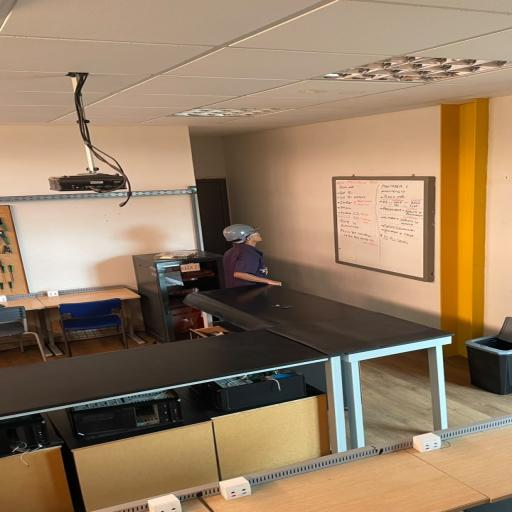CAPACETE: (222, 224, 260, 242)
OCULOS: (248, 231, 260, 236)
